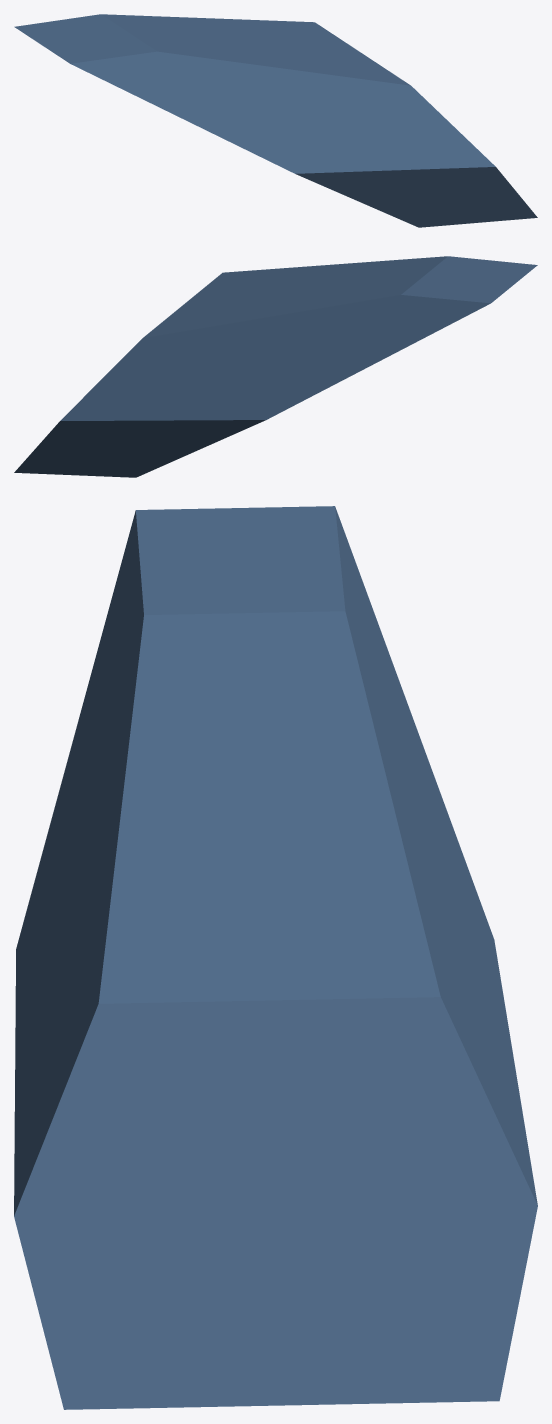
File: test.001_test.017_lev3.glb
3 renders of one model, top to bottom at view 1: azimuth 30°, elevation 25°; view 2: azimuth 150°, elevation 25°; view 3: azimuth 270°, elevation 25°, orthographic. The views are drawn at different scales.
Visible parts, largest first — view 1: test.001_test.017_lev3; view 2: test.001_test.017_lev3; view 3: test.001_test.017_lev3.
Part boxes in pixels (x1,y1,x2,y2): test.001_test.017_lev3: (14,14,537,227); test.001_test.017_lev3: (14,256,537,477); test.001_test.017_lev3: (14,506,537,1409).
Bounding box in the file's own units: 1.04 × 0.5453 × 0.5402.
